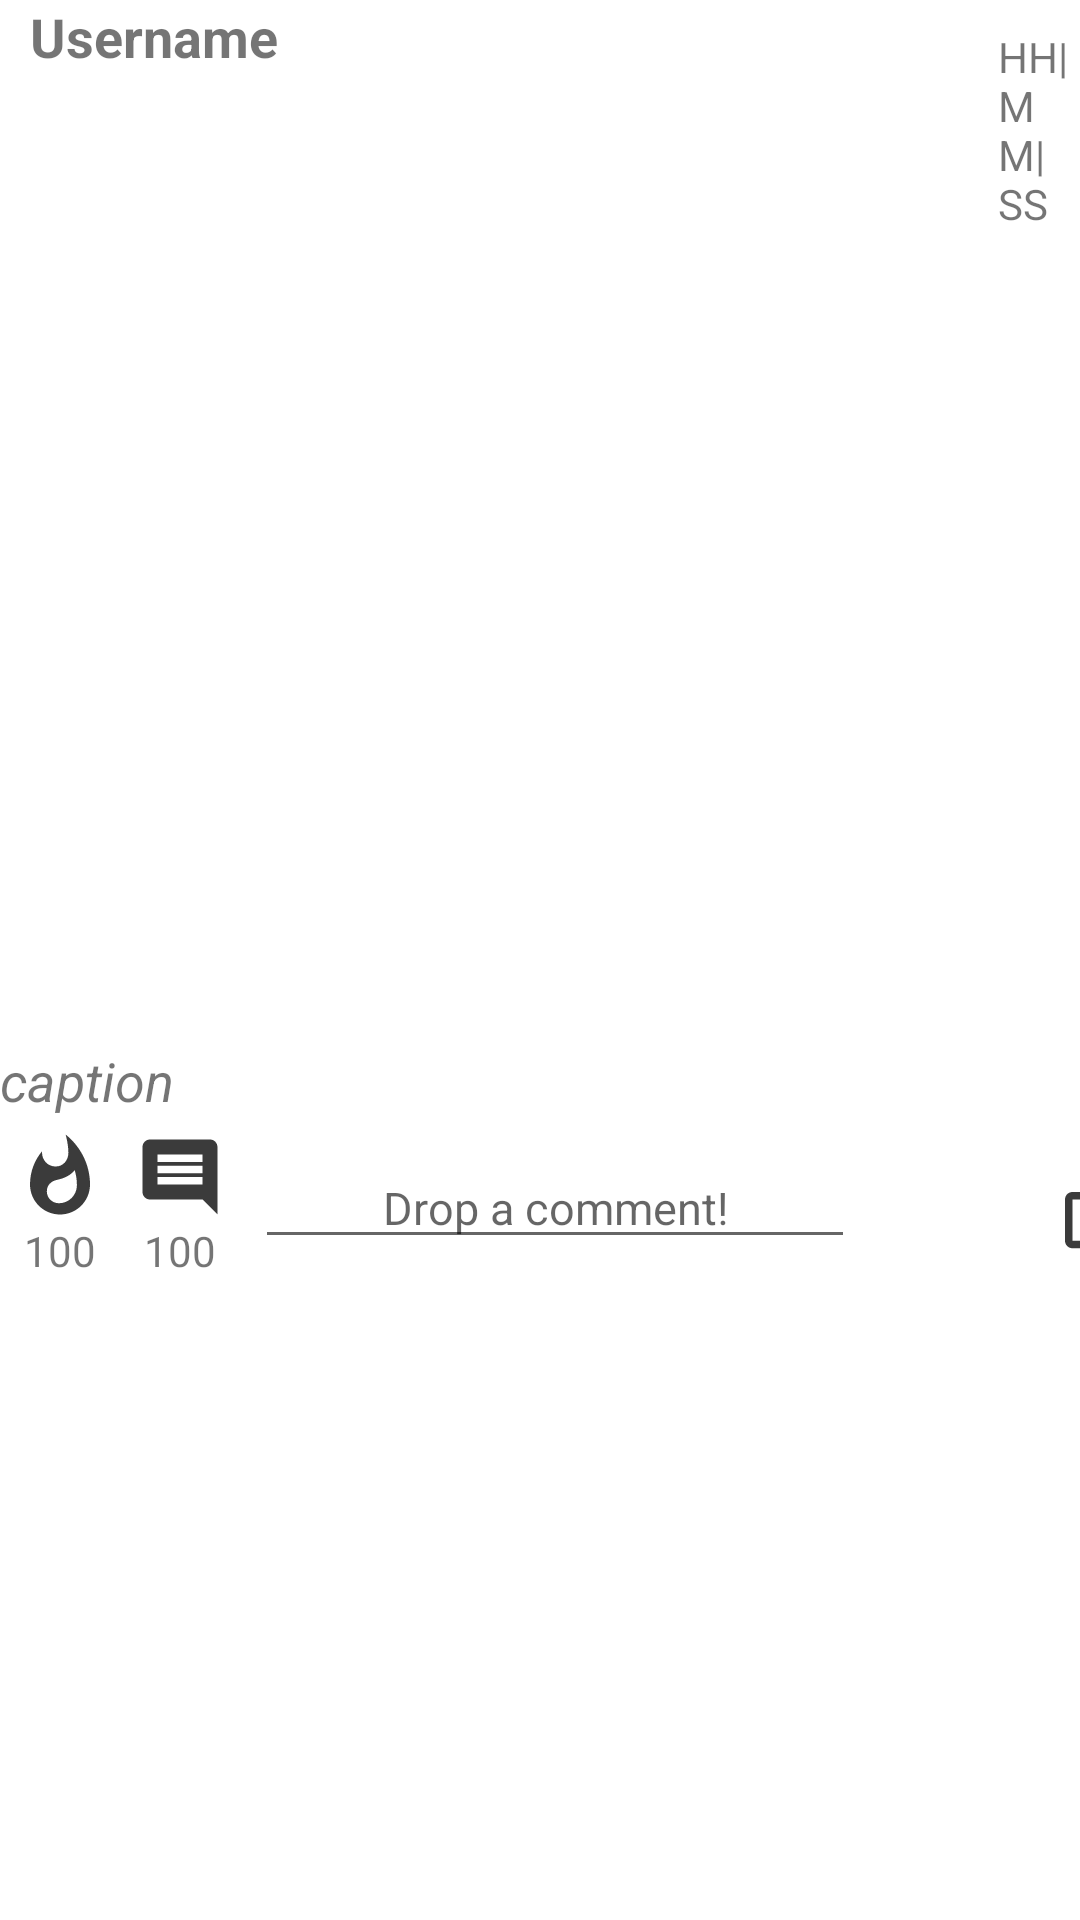

Where icons sit on this 1080×1920 app screen, as (x1, y1, x2, y2):
comments: (142, 1139, 218, 1214)
like: (30, 1135, 90, 1215)
